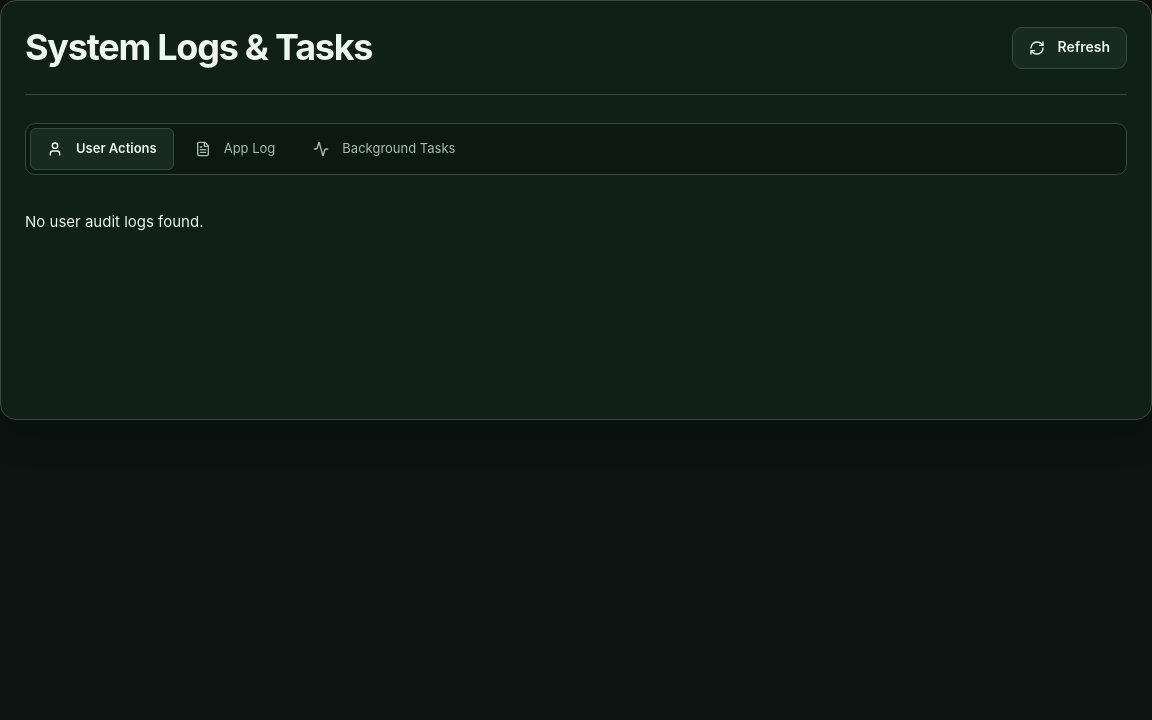
Test: AuditLog › renders current task statuses and structured failure messages
Click the button "Background Tasks": click(384, 149) [296,128,472,170]
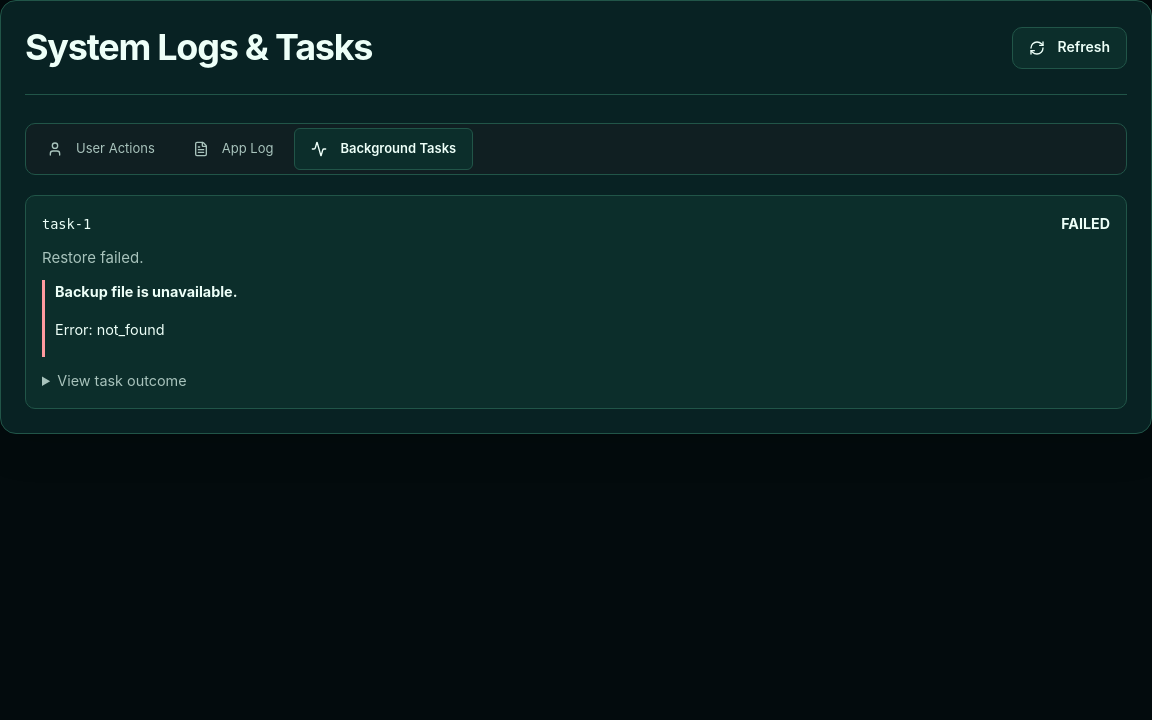
Expected: the text "Backup file is unavailable." is shown, [55,283,238,300]
